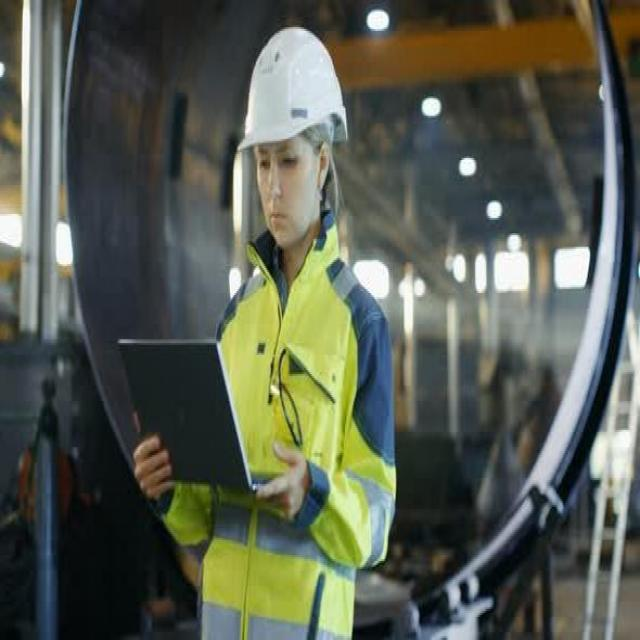reflective_jacket: (186, 223, 394, 628)
safety_helmet: (232, 21, 353, 161)
